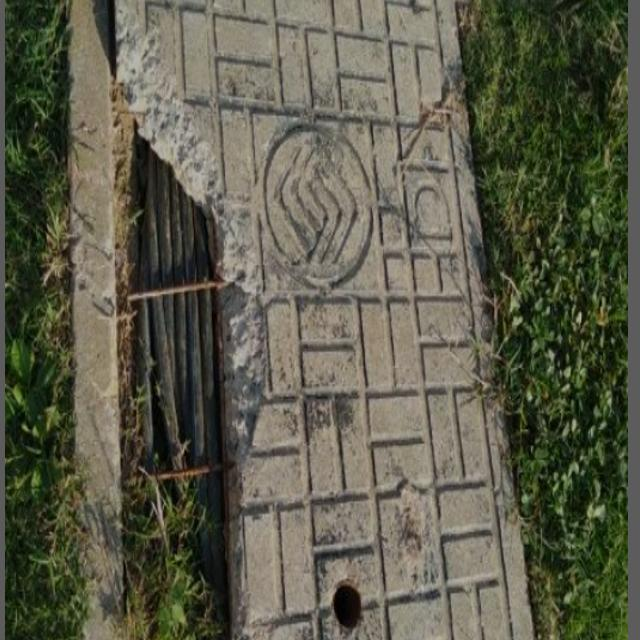broke: (65, 0, 572, 640)
